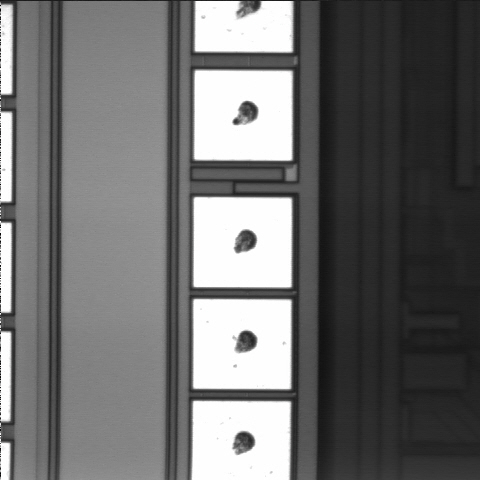pad: (194, 70, 292, 161), (194, 197, 292, 287), (193, 299, 291, 389)
